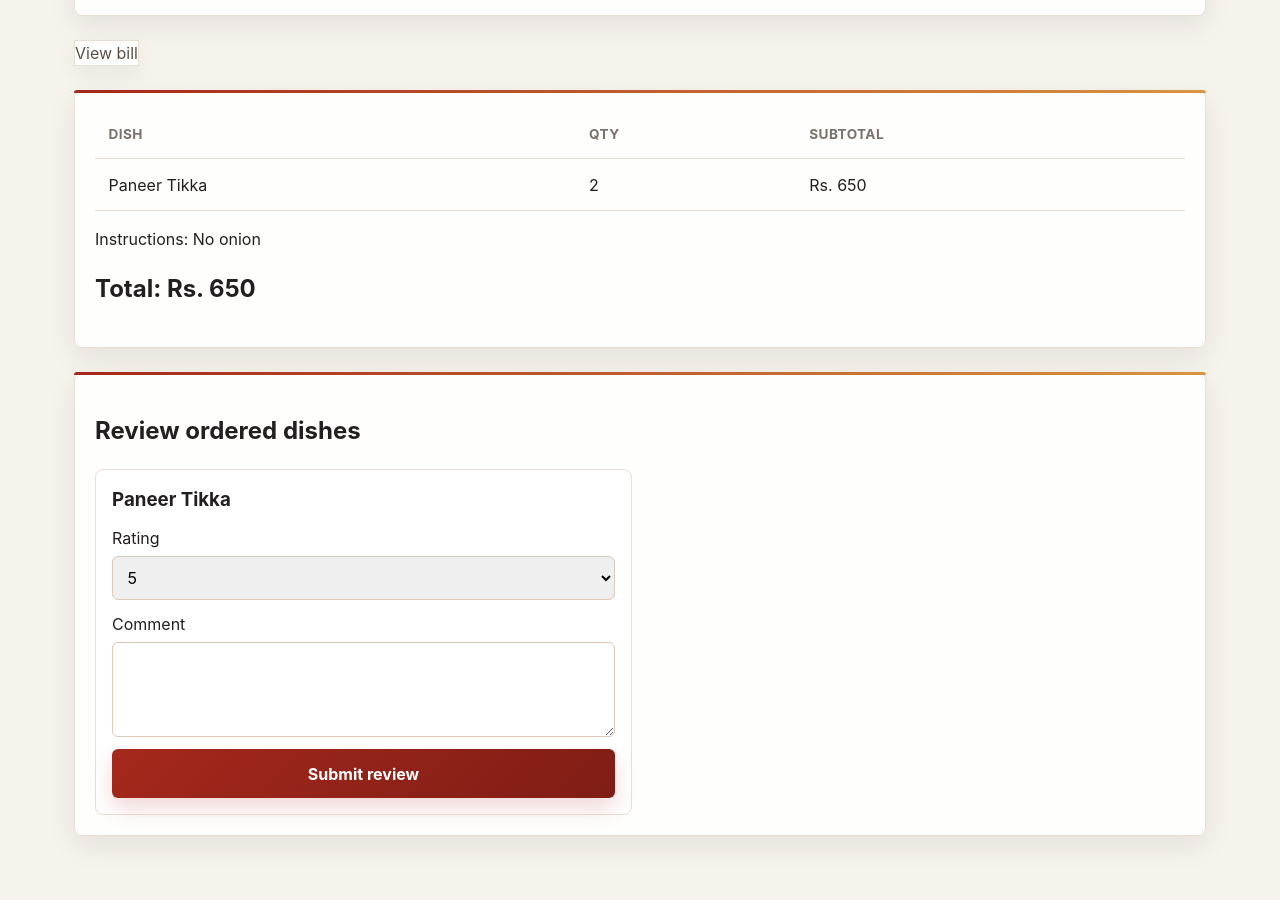
PublicOrderStatusPage › submits reviews once the order is served
(page scrolled)
Type "Great dish" into the text box labelled "Comment".
click(364, 689); type("Great dish")  # box [112, 642, 615, 737]
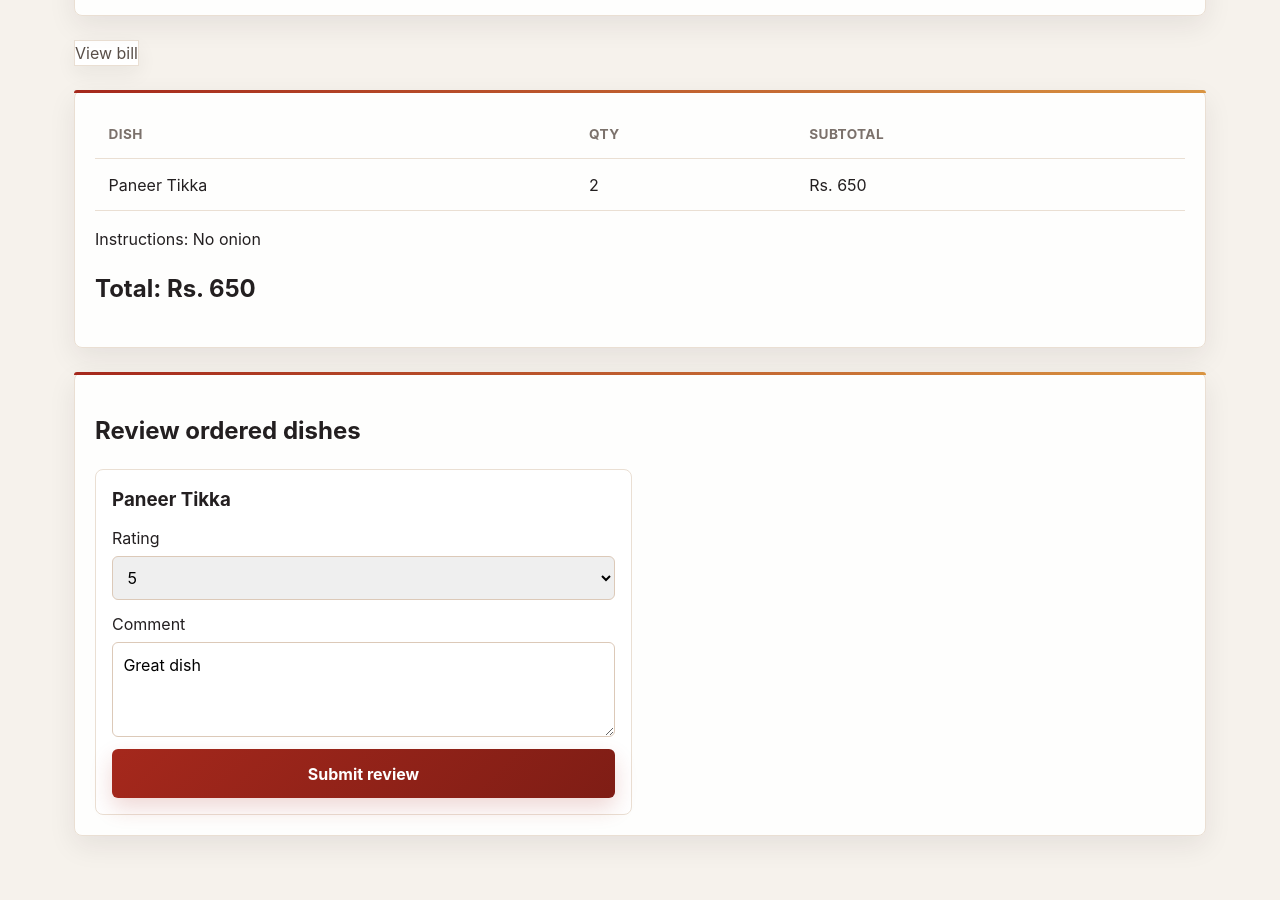
Click the button "Submit review".
click(364, 774)  # box [112, 749, 615, 798]
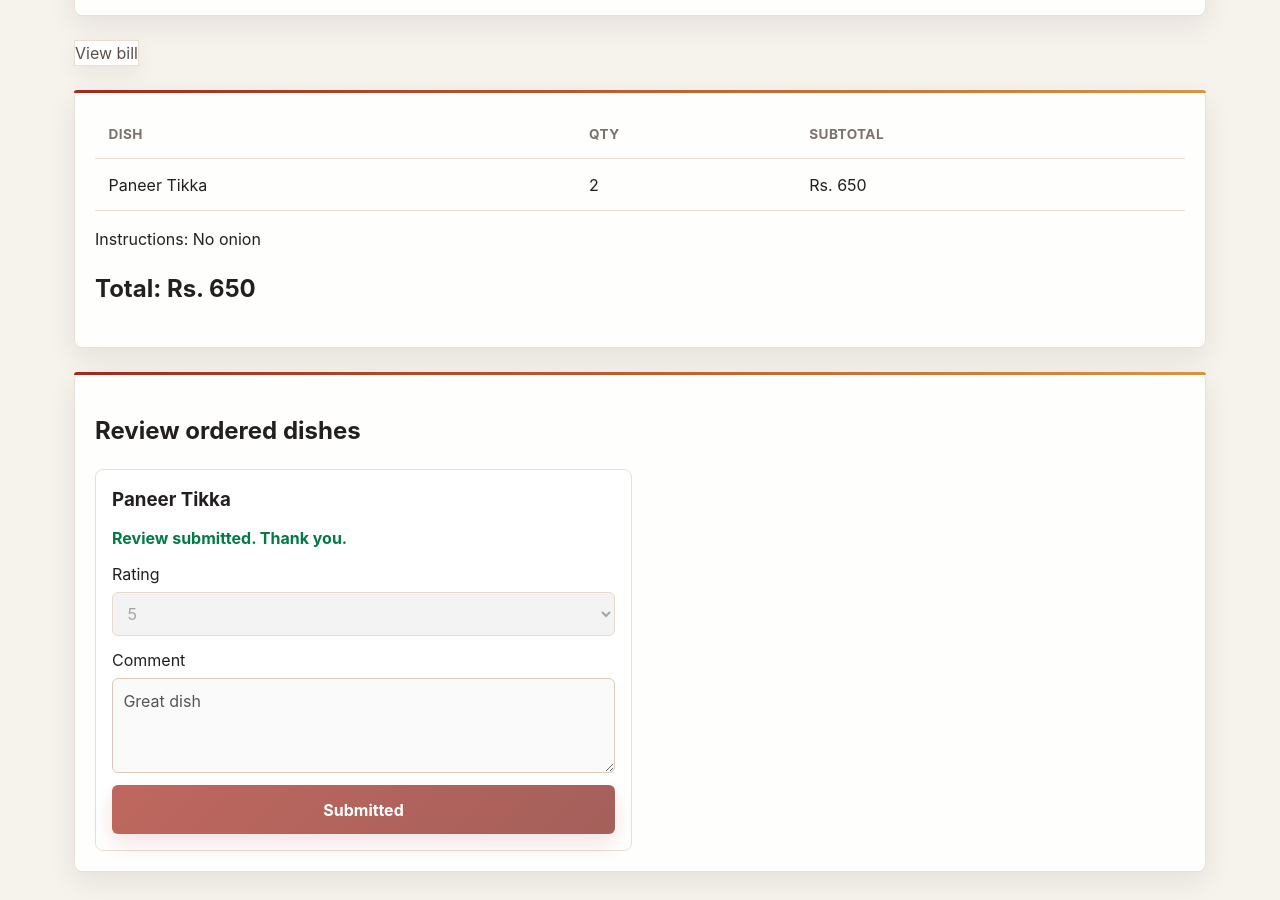
Now the text "Review submitted. Thank you." is shown, box [112, 528, 347, 548]
Now the button "Submitted" is disabled, box [112, 785, 615, 834]
